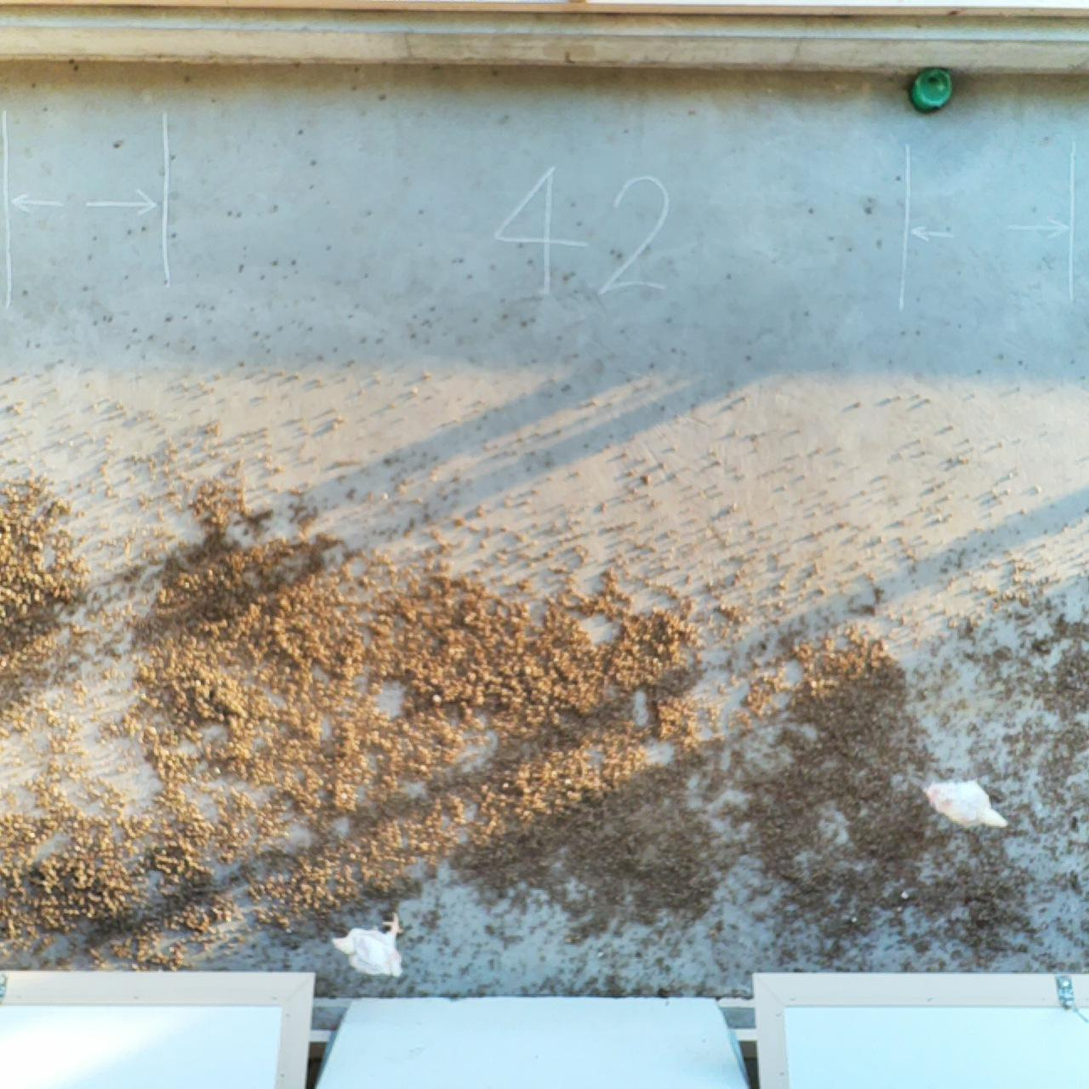chicken: (325, 908, 415, 981), (920, 773, 1013, 835)
